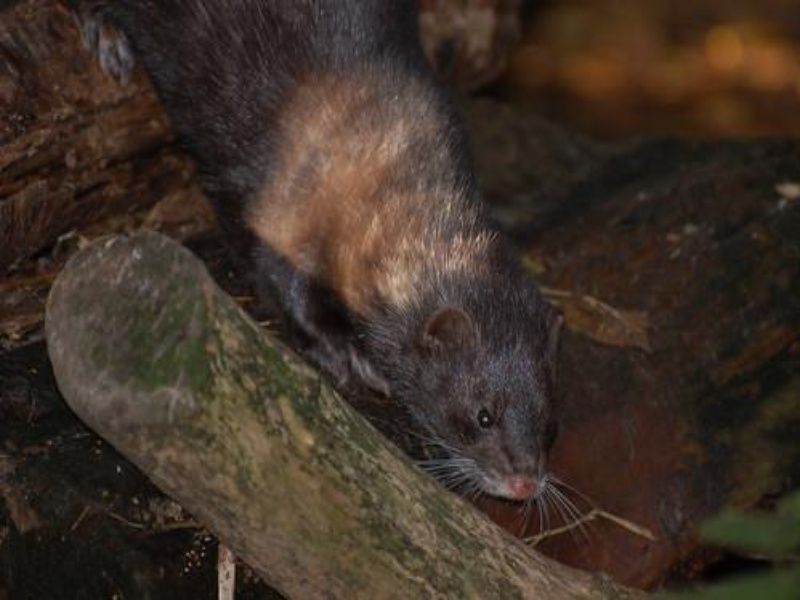minkish: (121, 5, 561, 527)
